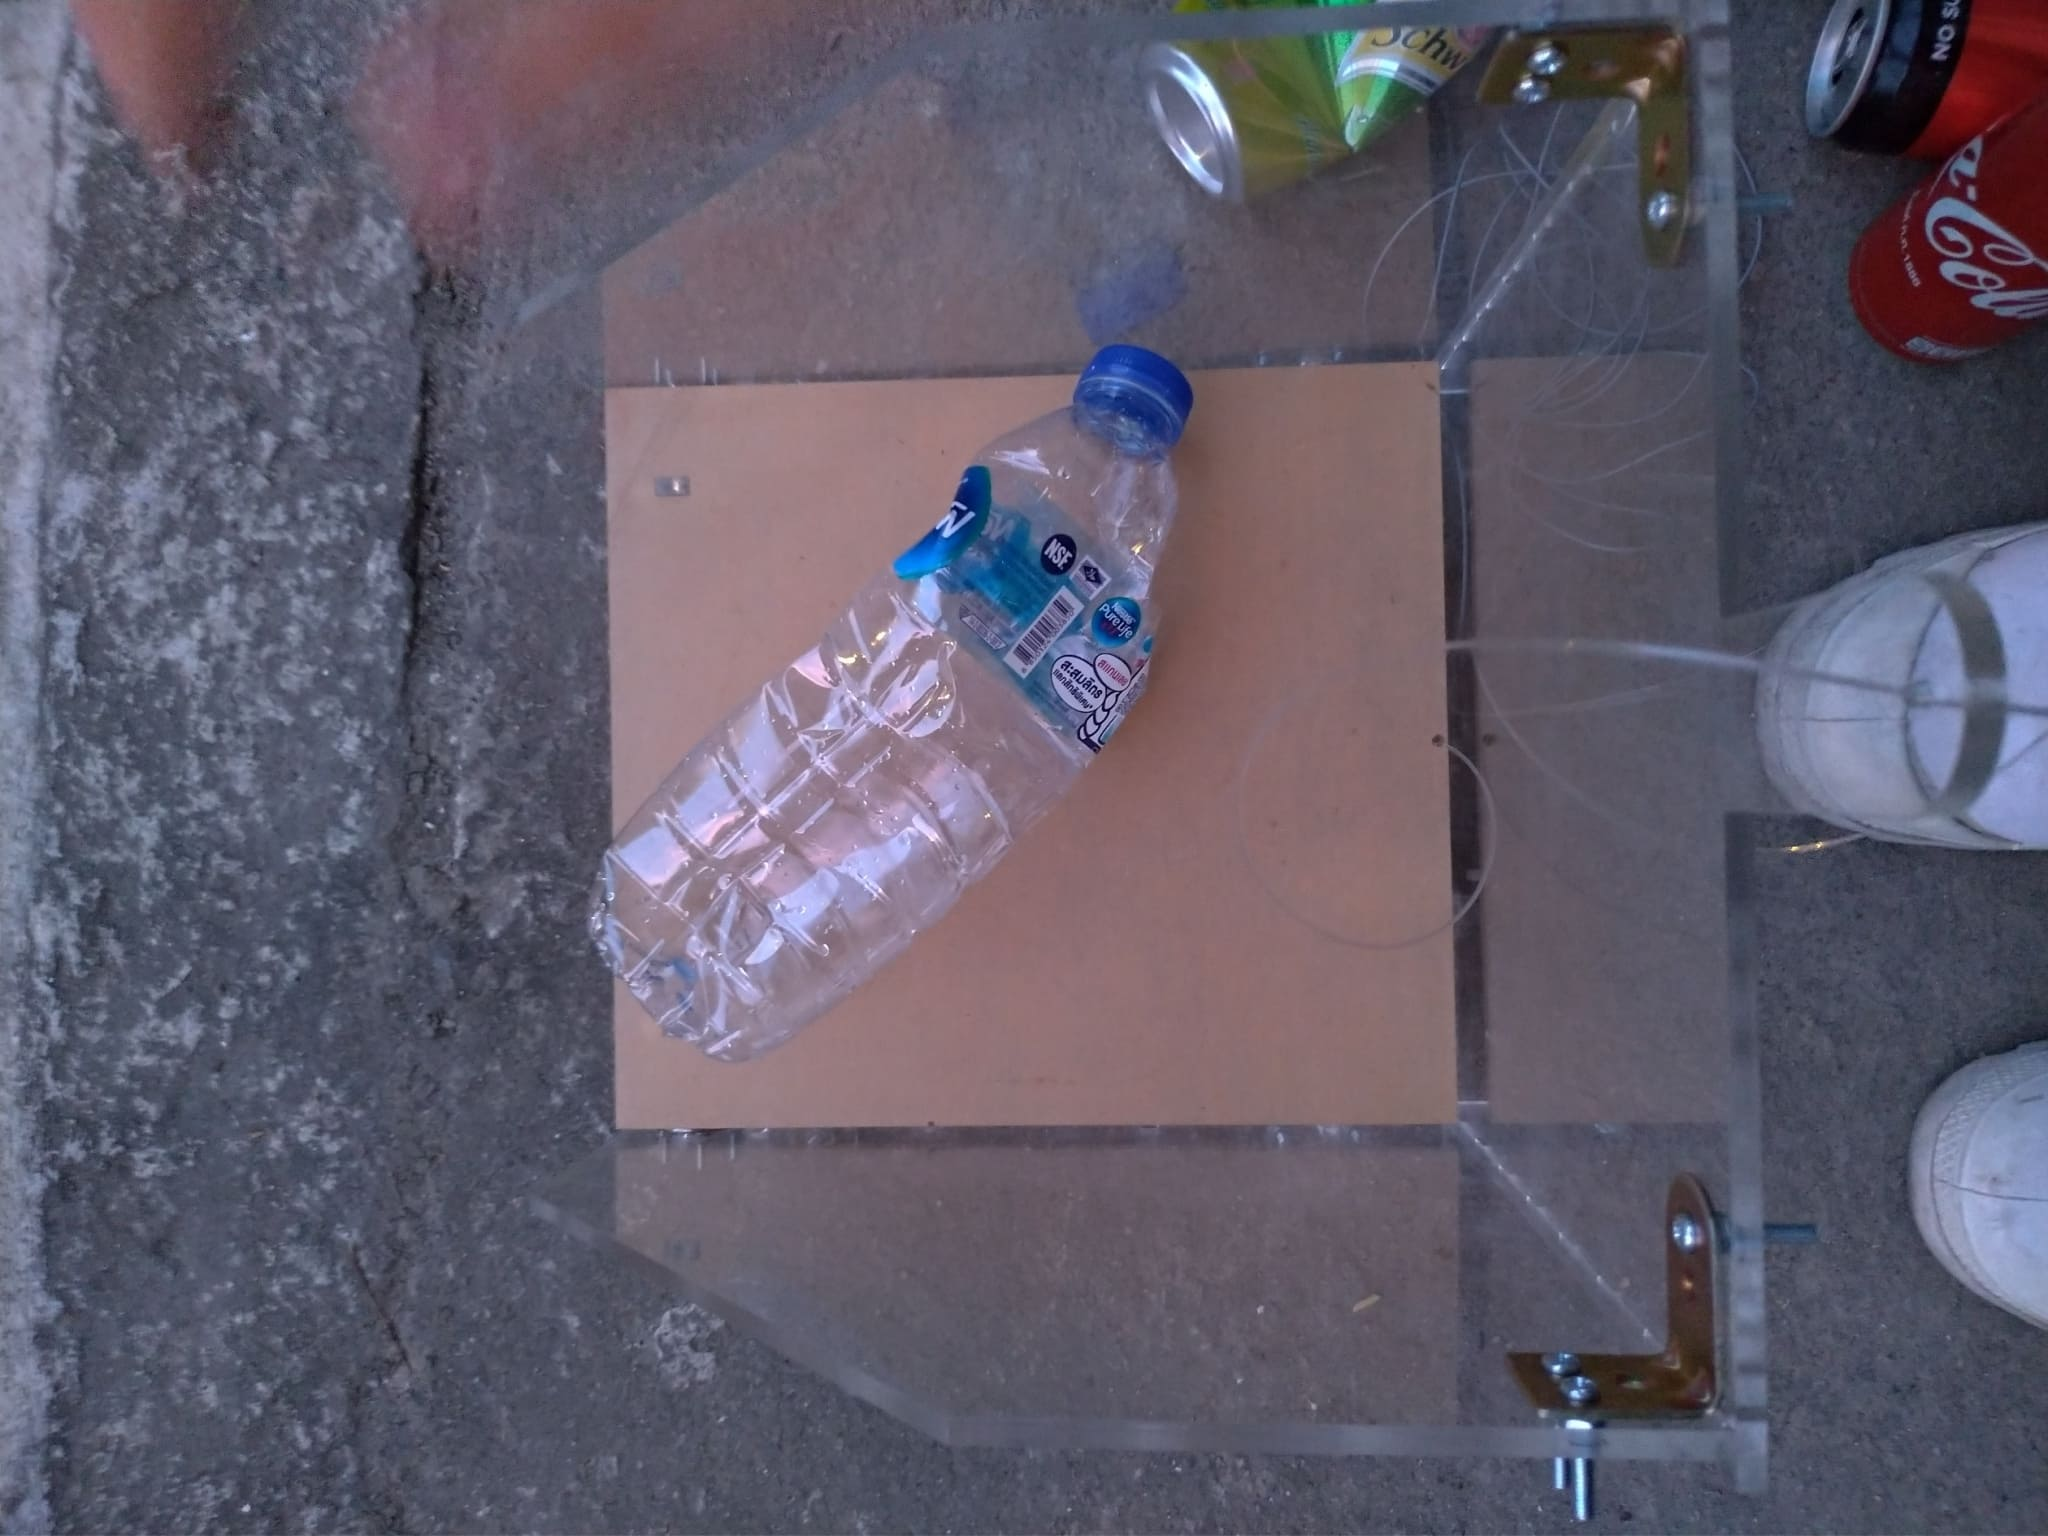AlCan: (1138, 2, 1505, 215), (1853, 77, 2048, 369), (1800, 2, 2033, 145)
PlasticBottle: (576, 337, 1192, 1058)
